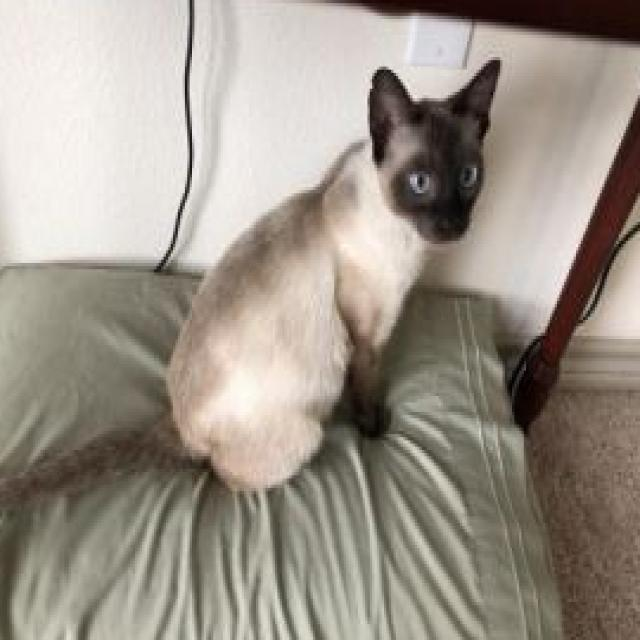Siamese: (0, 54, 503, 519)
